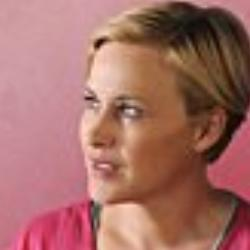face: (66, 2, 250, 214)
